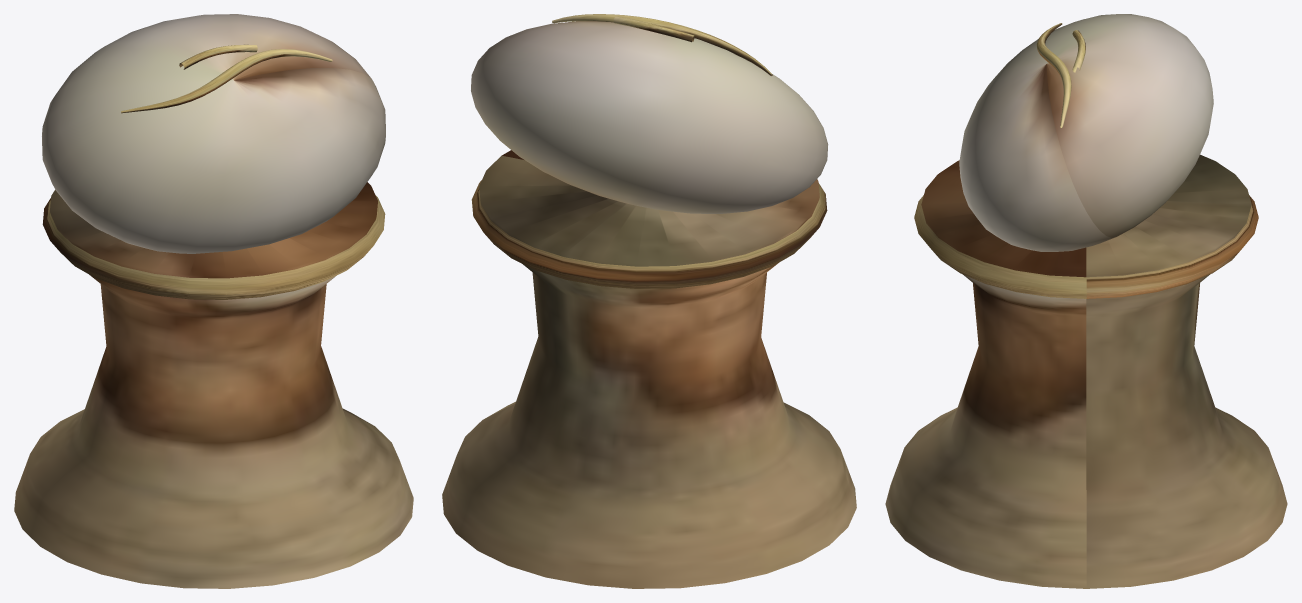
The model's file is white-stone-new-name.glb.
3 views of the same model, side by side, from view 1: azimuth 30°, elevation 25°; view 2: azimuth 150°, elevation 25°; view 3: azimuth 270°, elevation 25° (orthographic). The views are drawn at different scales.
Parts seen in each view (by area): view 1: HeroRelicMonument; view 2: HeroRelicMonument; view 3: HeroRelicMonument.
Boxes of the visible parts, left/top/right/bottom form: HeroRelicMonument: left=14, top=14, right=413, bottom=588; HeroRelicMonument: left=442, top=14, right=856, bottom=588; HeroRelicMonument: left=885, top=14, right=1287, bottom=588.
Size of the model in its own units: 1.12 by 1.42 by 1.12.
Materials: 1 (1 with a texture image).
